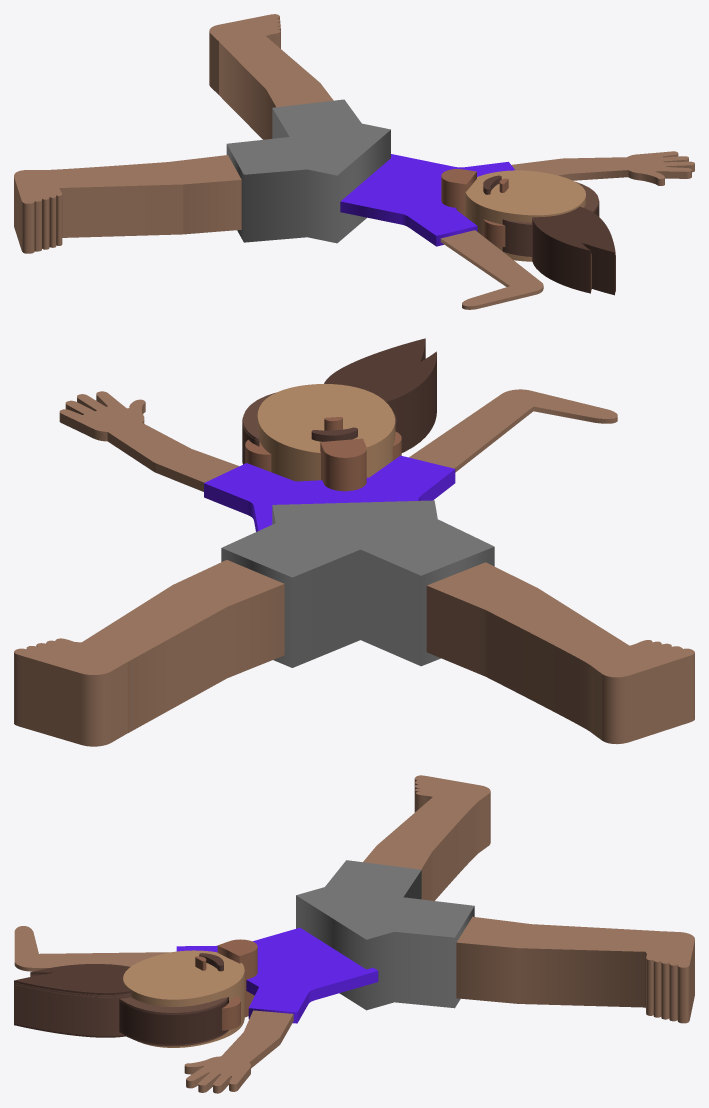
Rendered from emoji_u1f938_1f3fd_200d_2640.glb.
The picture shows the model from 3 angles, top to bottom: view 1: azimuth 30°, elevation 25°; view 2: azimuth 150°, elevation 25°; view 3: azimuth 270°, elevation 25°; orthographic projection. The views are drawn at different scales.
Visible parts, largest first — view 1: emoji_u1f938_1f3fd_200d_2640; view 2: emoji_u1f938_1f3fd_200d_2640; view 3: emoji_u1f938_1f3fd_200d_2640.
Part boxes in pixels (x1,y1,x2,y2): emoji_u1f938_1f3fd_200d_2640: (14,14,694,309); emoji_u1f938_1f3fd_200d_2640: (14,338,694,746); emoji_u1f938_1f3fd_200d_2640: (14,775,694,1093).
Size of the model in its own units: 0.0333 by 0.0038 by 0.0332.
